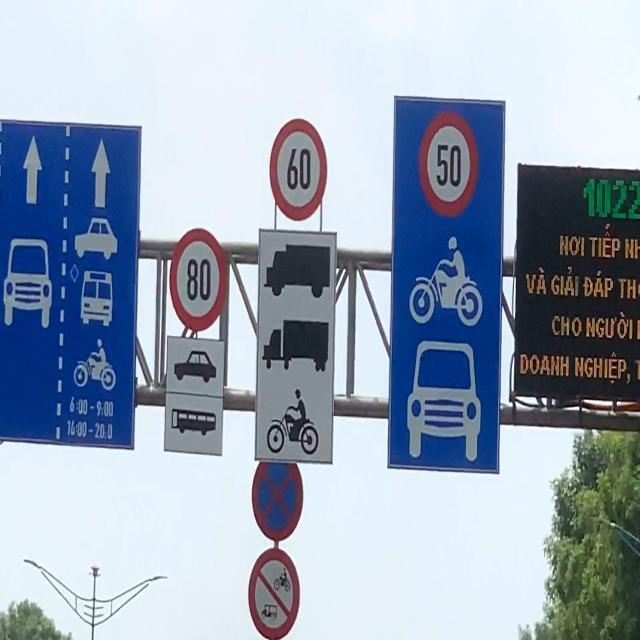127-toc-do-toi-da-50: (419, 111, 477, 216)
127-toc-do-toi-da-60: (268, 119, 328, 218)
127-toc-do-toi-da-80: (168, 228, 226, 332)
130-cam-dung-va-do-xe: (249, 456, 307, 543)
